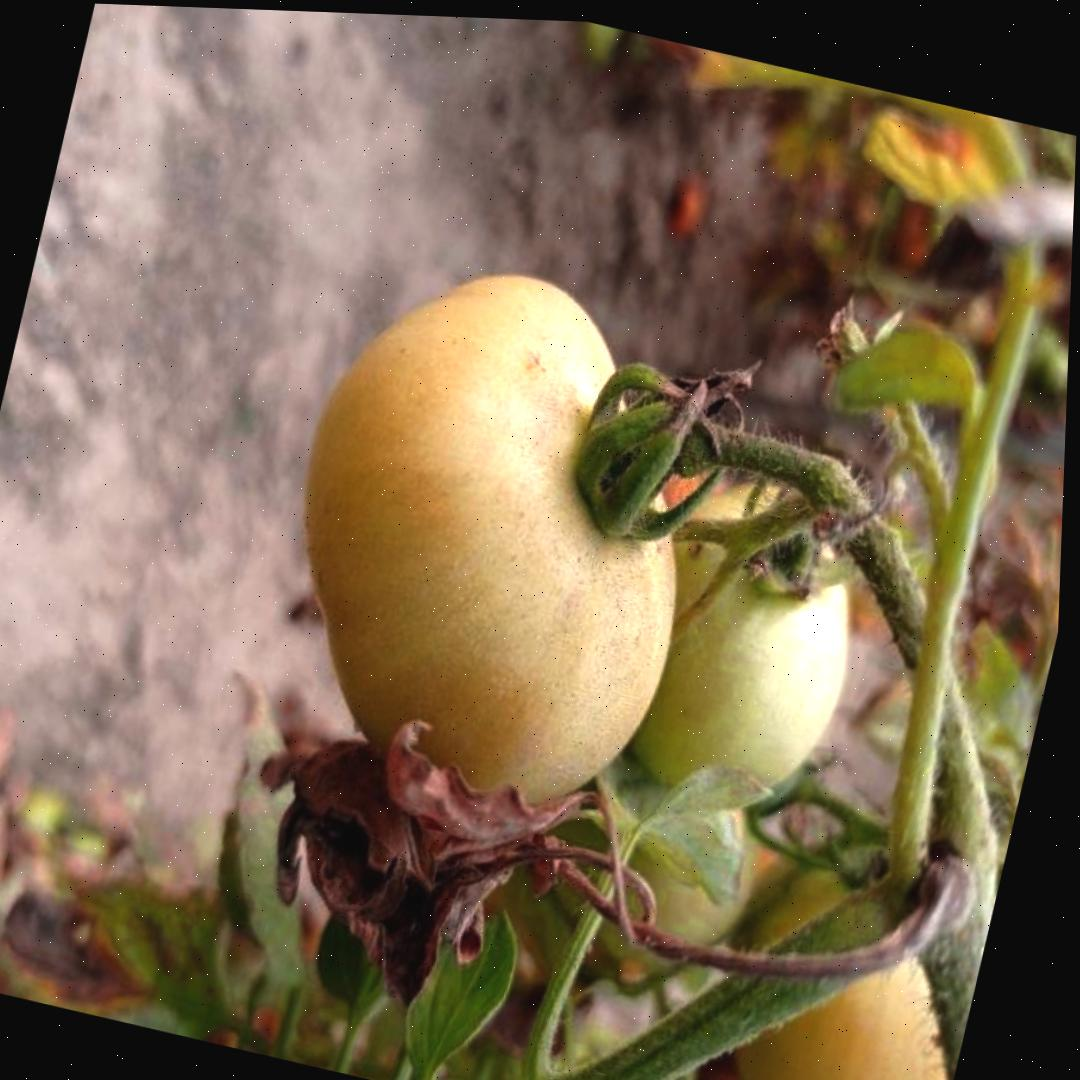mentah: (240, 233, 747, 849), (569, 449, 887, 838)
